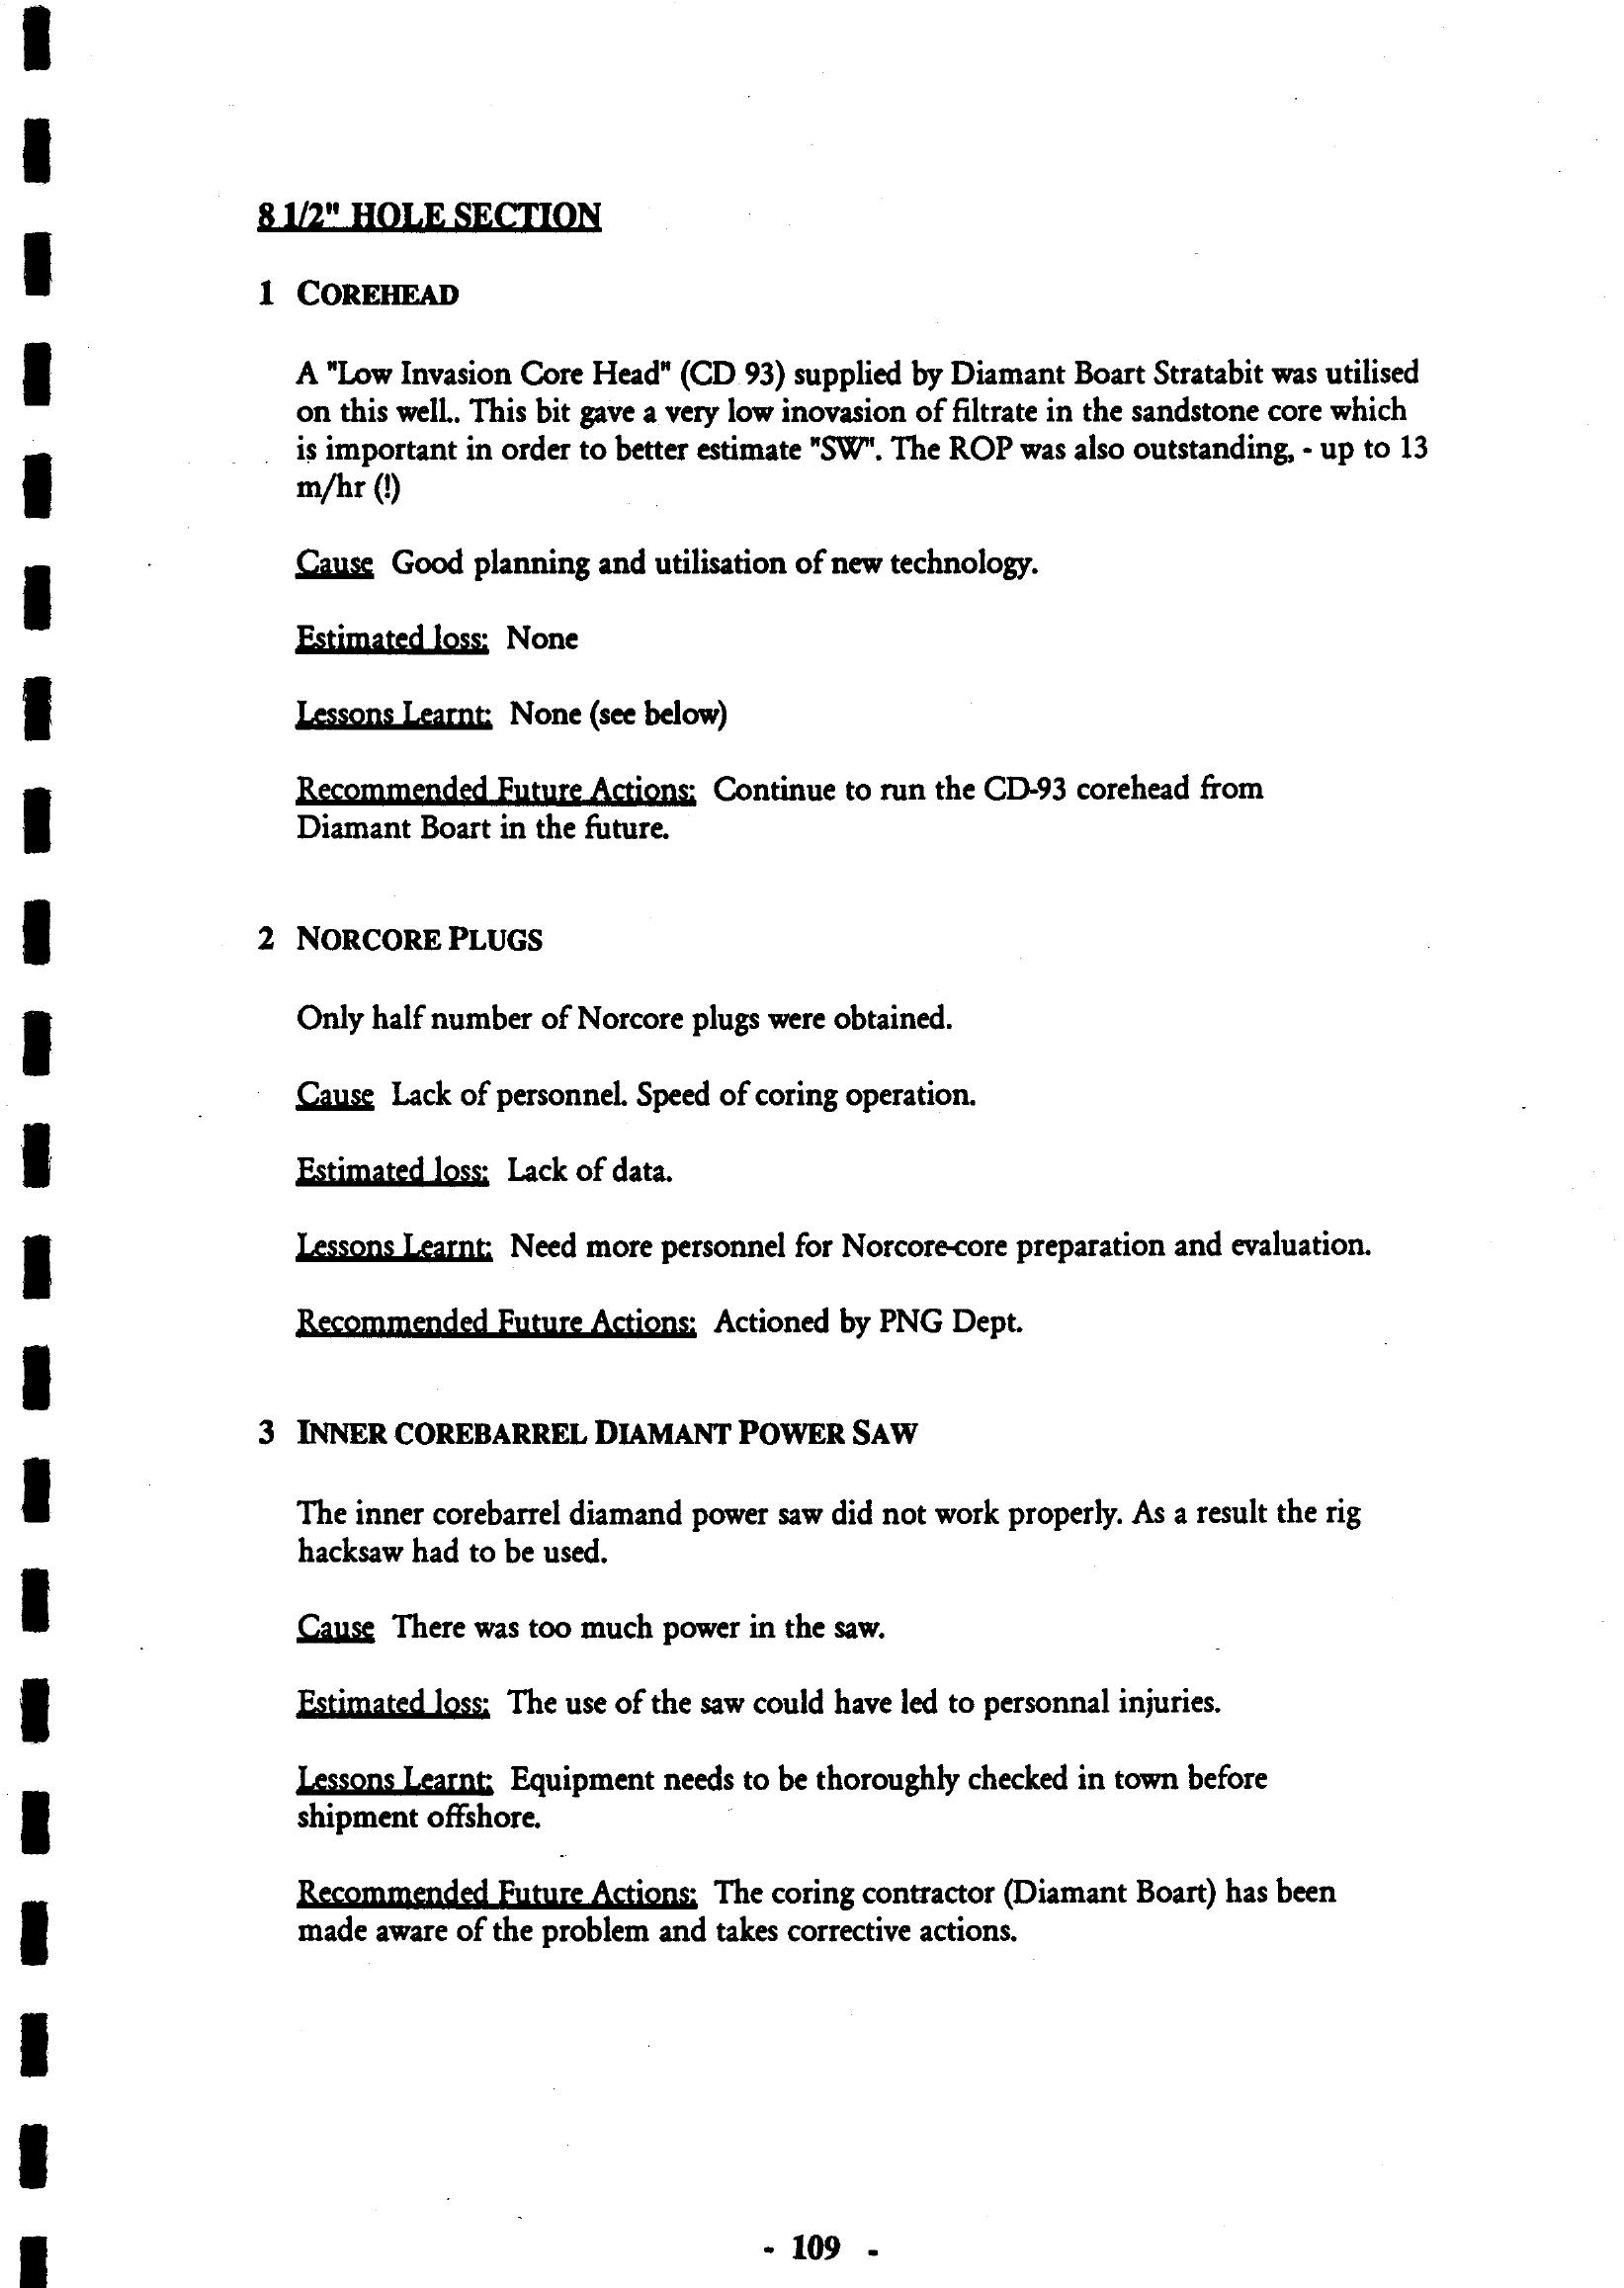text: (221, 165, 1475, 2023)
